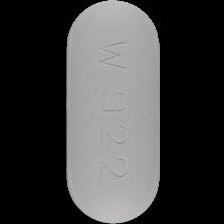64679-922: (0, 0, 224, 224)
